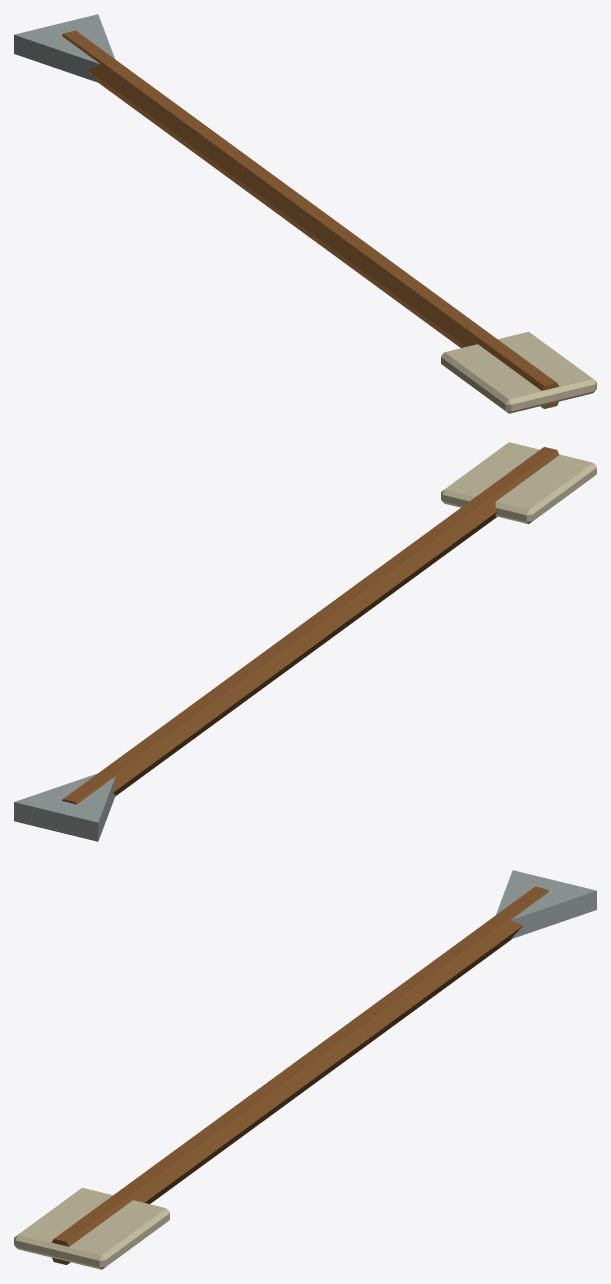
Rendered from Arrow.glb.
The picture shows the model from 3 angles, top to bottom: view 1: azimuth 30°, elevation 25°; view 2: azimuth 150°, elevation 25°; view 3: azimuth 330°, elevation 25°; orthographic projection.
Parts seen in each view (by area): view 1: Sculpture; view 2: Sculpture; view 3: Sculpture.
Boxes of the visible parts, x1,y1,x2,y2 form: Sculpture: (14, 14, 596, 413); Sculpture: (14, 442, 596, 841); Sculpture: (14, 870, 596, 1269).
Bounding box in the file's own units: 0.1 × 0.0242 × 0.94.
